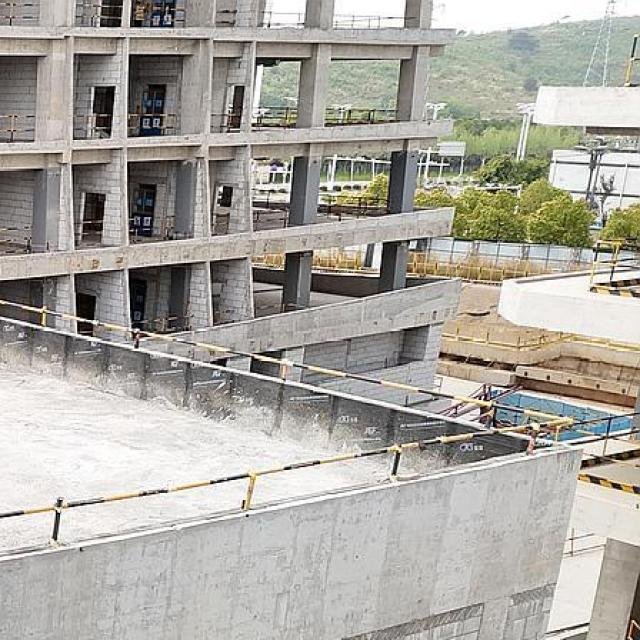Guardrail: (0, 298, 574, 540), (553, 407, 640, 472), (588, 235, 640, 288), (129, 0, 188, 29), (324, 106, 400, 121), (126, 114, 180, 135), (332, 14, 405, 29), (72, 114, 114, 139), (76, 4, 123, 26), (127, 216, 176, 237), (0, 114, 36, 142), (130, 314, 193, 330), (623, 30, 640, 89), (0, 2, 40, 27), (0, 226, 33, 254), (251, 106, 299, 124), (316, 194, 388, 206), (258, 10, 308, 27), (252, 208, 289, 229), (210, 114, 241, 134), (250, 188, 290, 203), (211, 9, 239, 27), (75, 220, 102, 236), (76, 326, 115, 337), (211, 213, 229, 226)
